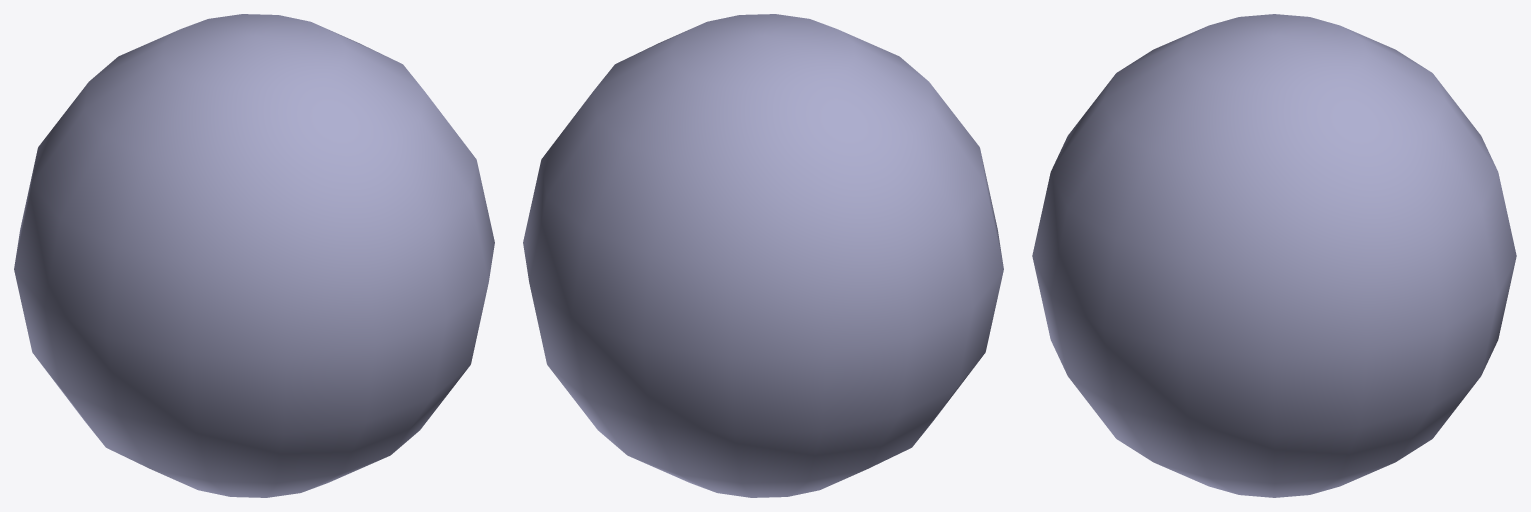
Rendered from soulModel (1).fbx.
The picture shows the model from 3 angles, left to right: view 1: azimuth 30°, elevation 25°; view 2: azimuth 150°, elevation 25°; view 3: azimuth 270°, elevation 25°; orthographic projection.
Visible parts, largest first — view 1: Soul.001; view 2: Soul.001; view 3: Soul.001.
Part boxes in pixels (<box>): Soul.001: <box>14,14,494,497</box>; Soul.001: <box>523,14,1003,497</box>; Soul.001: <box>1032,14,1516,497</box>.
Bounding box in the file's own units: 228 × 228 × 228.
